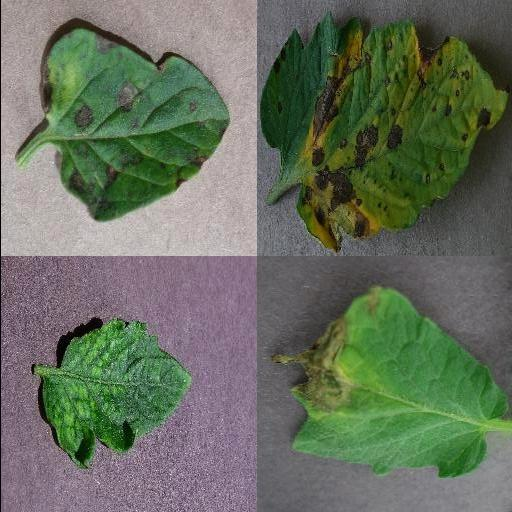Early Blight: (259, 16, 507, 254), (37, 30, 233, 221)
Late Blight: (274, 281, 508, 479)
Mosaic Virus: (39, 318, 193, 468)
